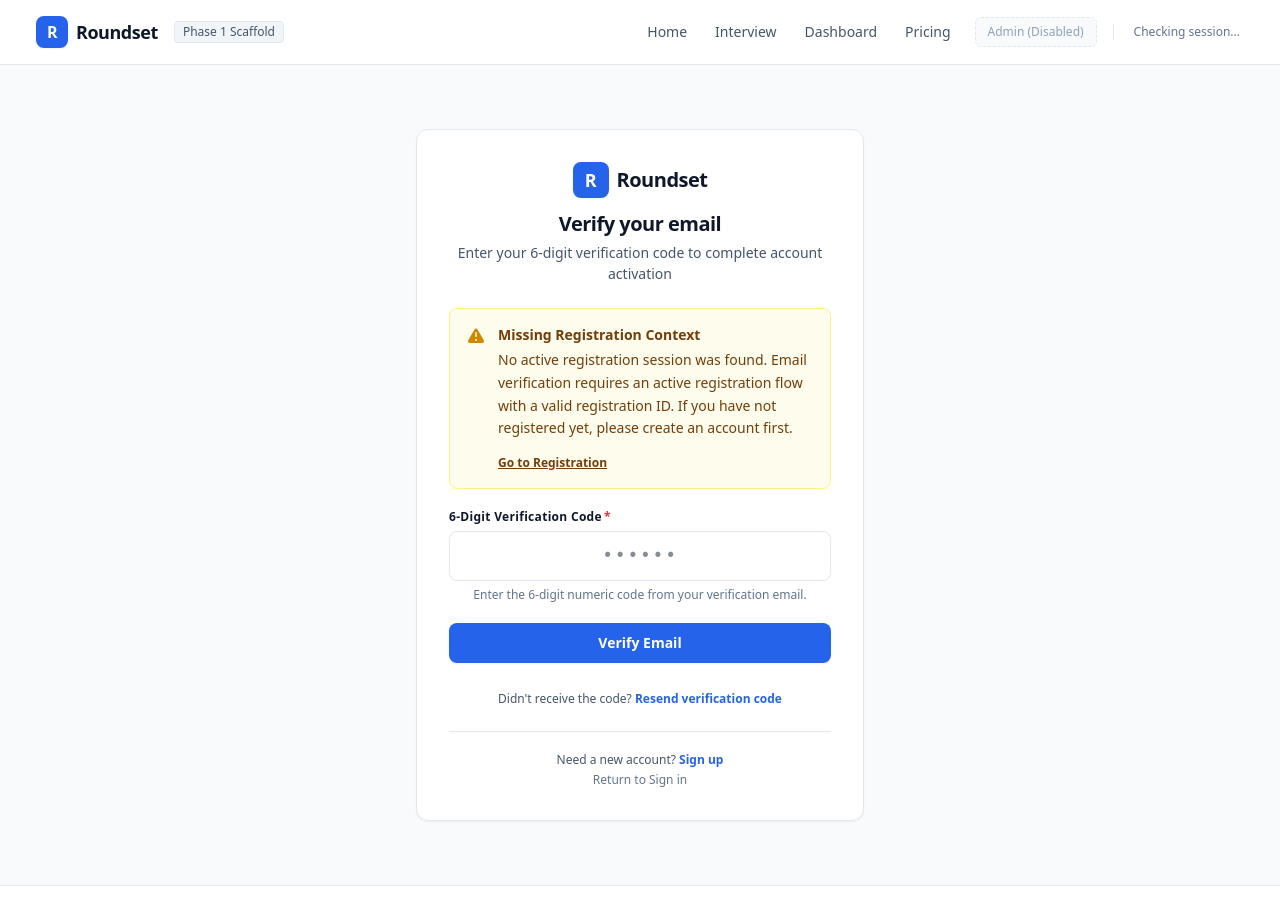
Test: Auth Pages and Flows (P2-FE-01) › Registration Flow Context and Safe Handling › rejects email-only context and requires a valid nonempty registrationId
Later steps or results of the test are not shown.
Check: the heading "Missing Registration Context" is shown, box [498, 325, 700, 344]
Check: the text "email verification requires an active registration flow with a valid registration id" is shown, box [498, 350, 807, 437]
// Submitting without registrationId shows warning alert
Type "123456" into the field labelled "6-Digit Verification Code*".
click(640, 556); type("123456")  # box [449, 531, 831, 581]
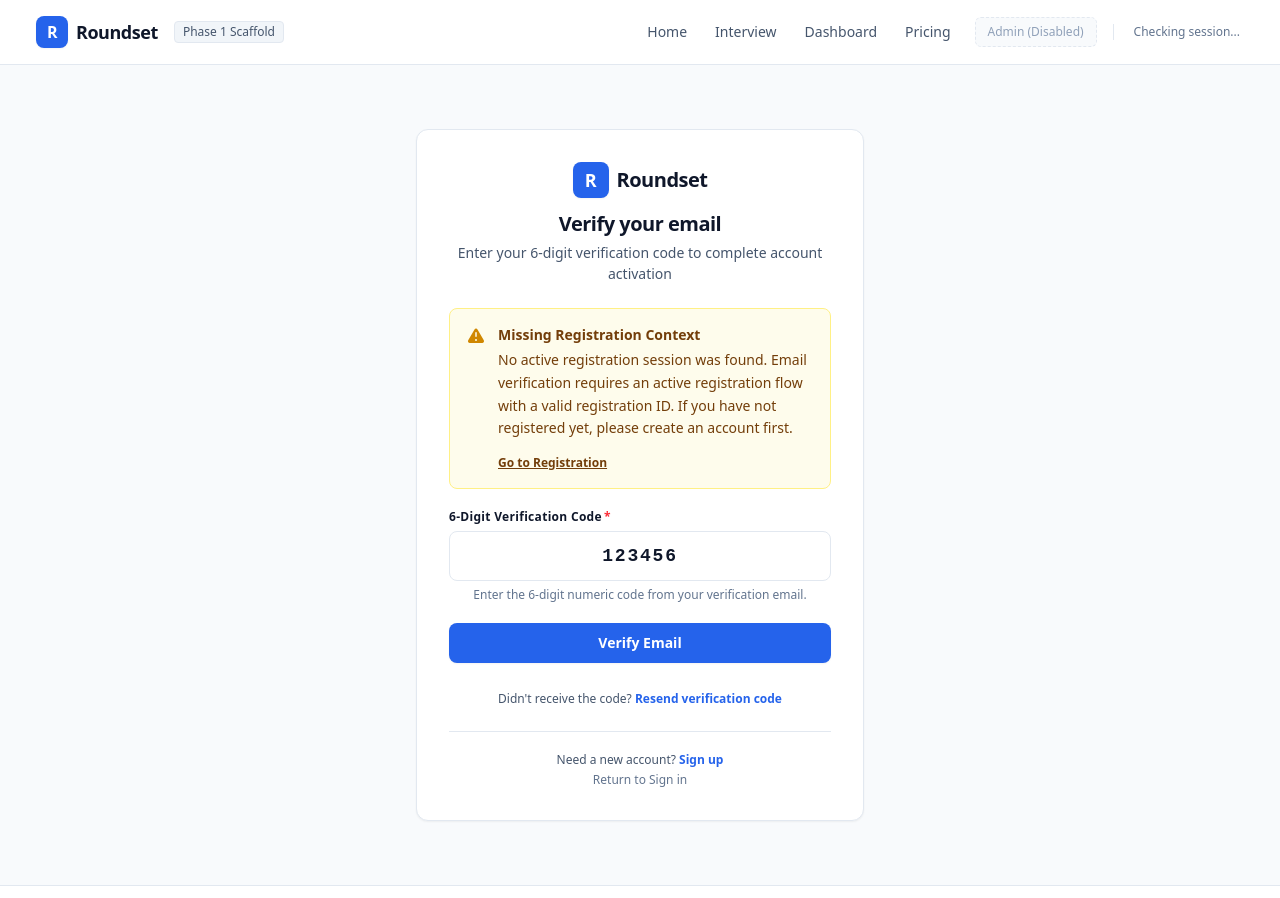
Click the button "Verify Email".
click(640, 643)  # box [449, 623, 831, 663]
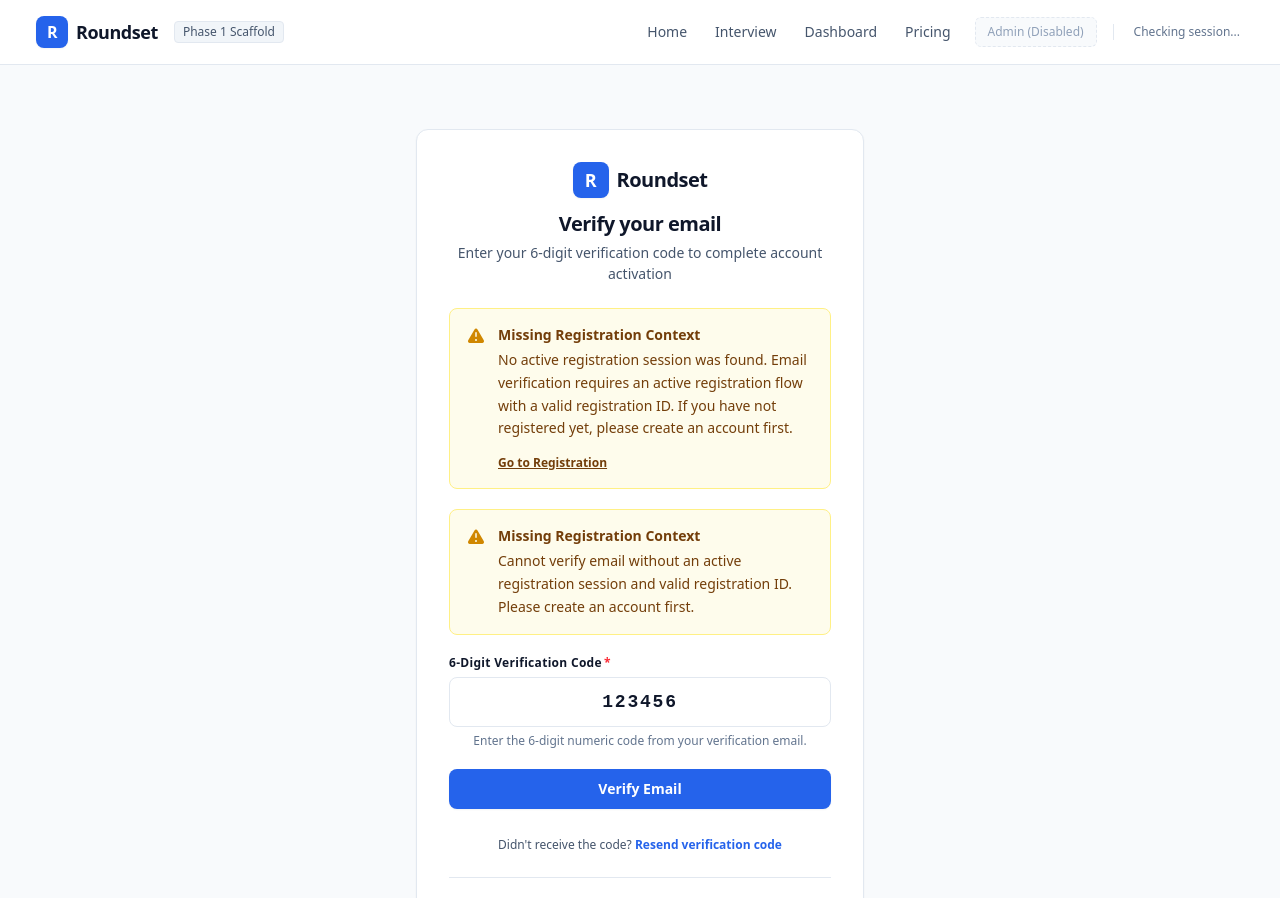
Check: the text "Cannot verify email without an active registration session and valid registration ID" is shown, box [498, 551, 792, 616]
